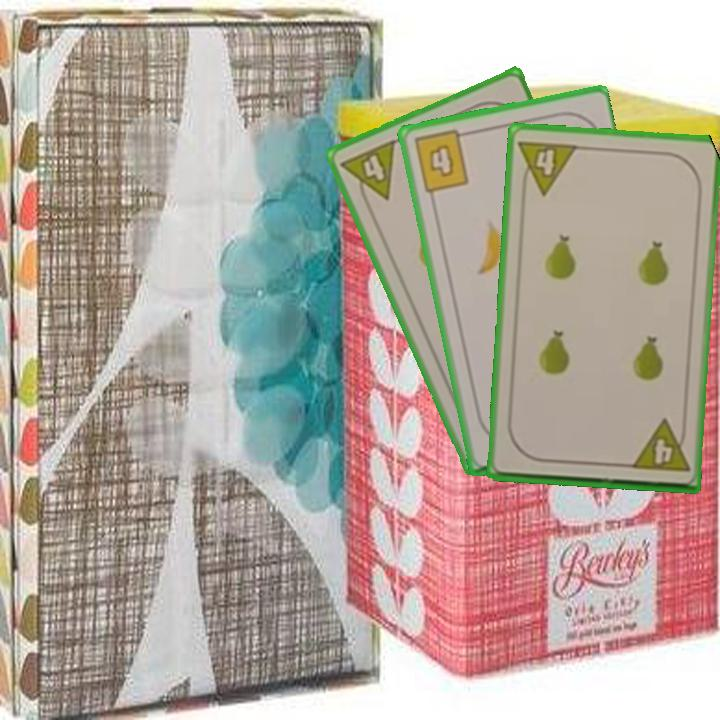4b: (410, 127, 472, 196)
4p: (337, 136, 399, 211), (515, 136, 580, 198), (627, 416, 692, 475)
